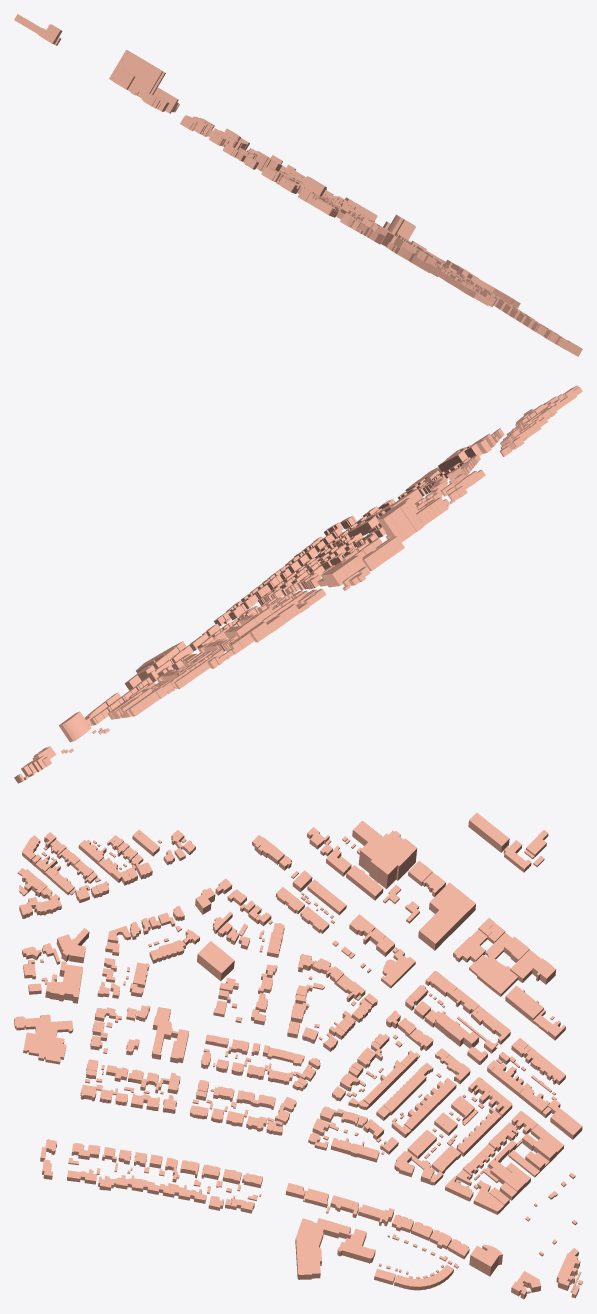
3 views of the same model, one above another, from view 1: azimuth 30°, elevation 25°; view 2: azimuth 150°, elevation 25°; view 3: azimuth 270°, elevation 25° (orthographic). The views are drawn at different scales.
Bounding box in the file's own units: 486 × 392 × 645.
